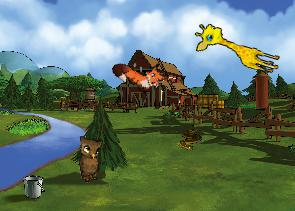fox: (109, 44, 171, 101)
giraffe: (190, 20, 285, 75)
owl: (74, 132, 110, 183)
